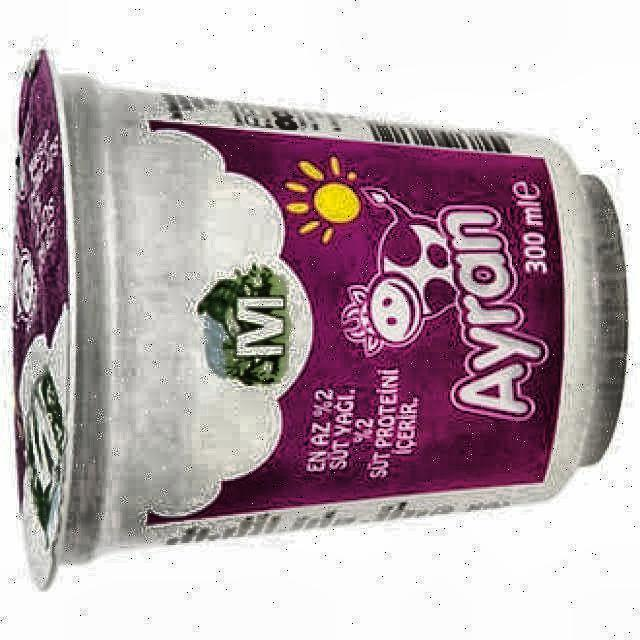plastic: (14, 54, 626, 583)
